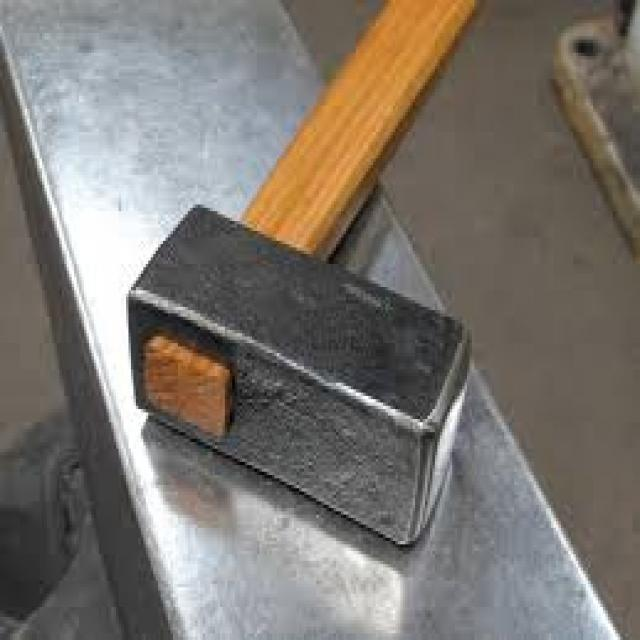hammer: (118, 0, 480, 554)
